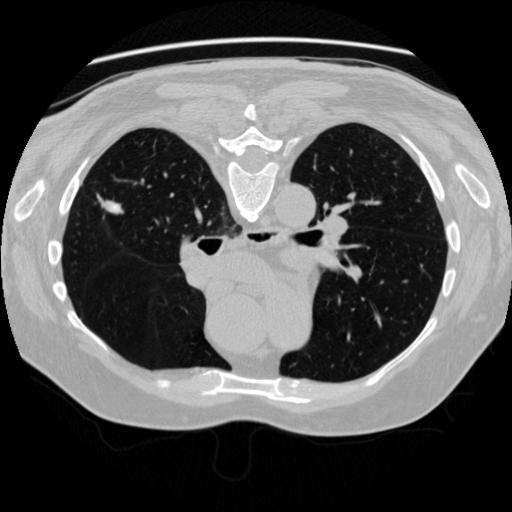nodule: (101, 199, 122, 220)
